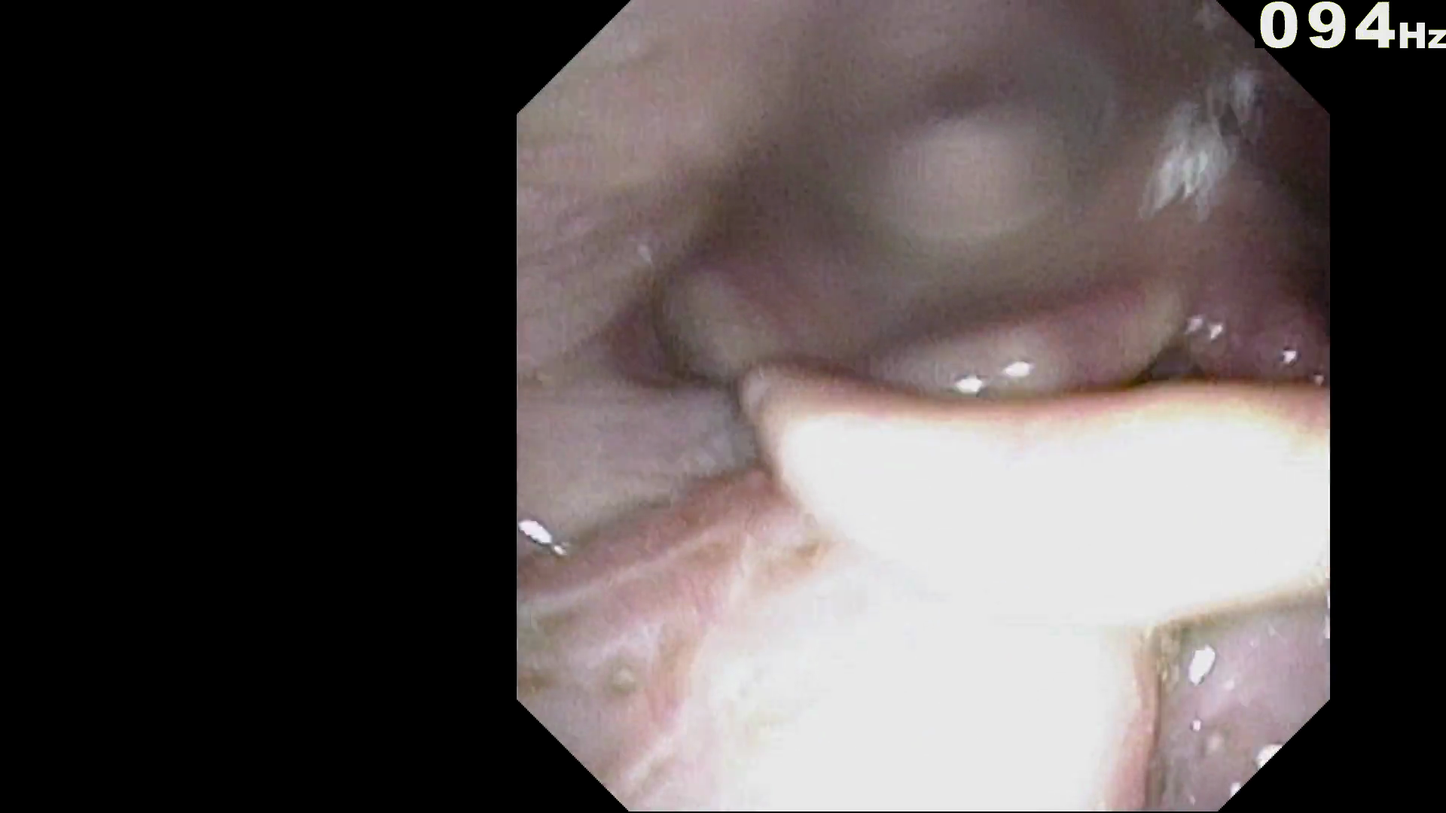epiglottis: (777, 417, 1306, 642)
trachea: (1061, 381, 1163, 466)
